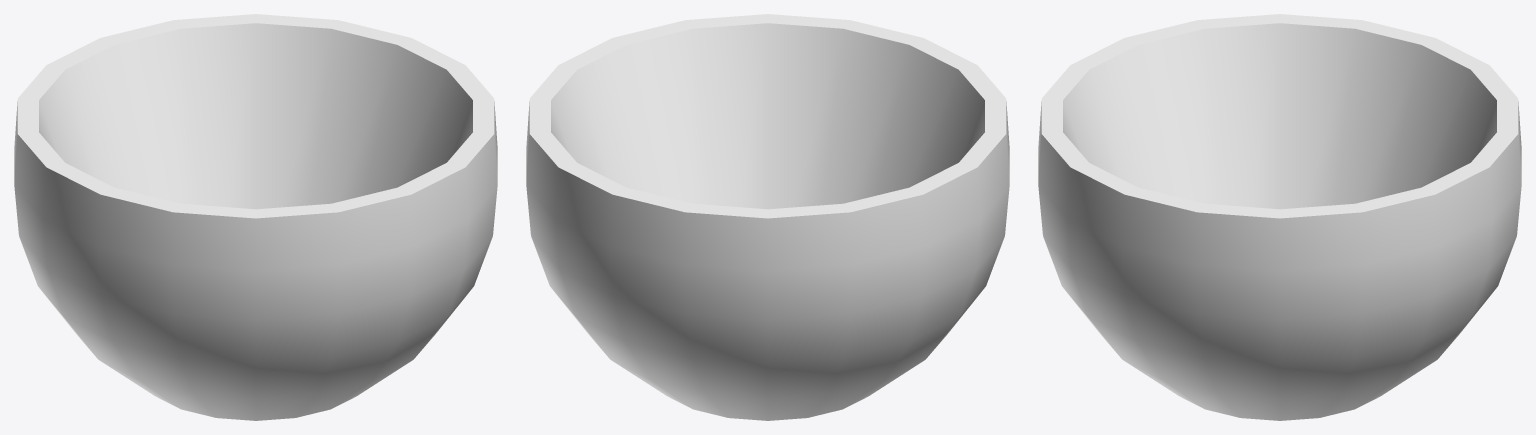
The model's file is bowl.FBX.
The picture shows the model from 3 angles, left to right: view 1: azimuth 30°, elevation 25°; view 2: azimuth 150°, elevation 25°; view 3: azimuth 270°, elevation 25°; orthographic projection.
Parts seen in each view (by area): view 1: Bol; view 2: Bol; view 3: Bol.
Part boxes in pixels (x1,y1,x2,y2): Bol: [14, 14, 497, 420]; Bol: [526, 14, 1009, 420]; Bol: [1038, 14, 1521, 420].
Bounding box in the file's own units: 5.84 × 3.36 × 5.75.
Materials: 1 (1 with a texture image).
